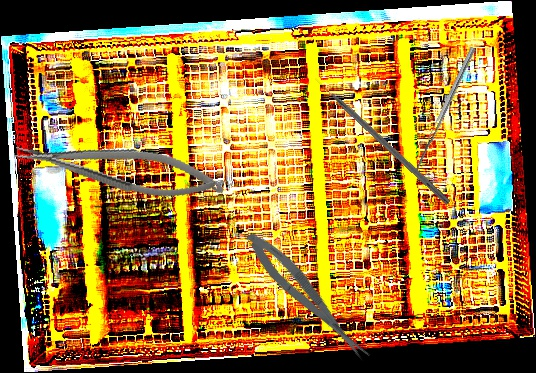Hook Surgical: (312, 74, 453, 206)
Micro Scissor: (239, 224, 375, 371)
Needle Holder: (11, 123, 229, 212)
Spatula Surgical: (410, 46, 481, 182)
